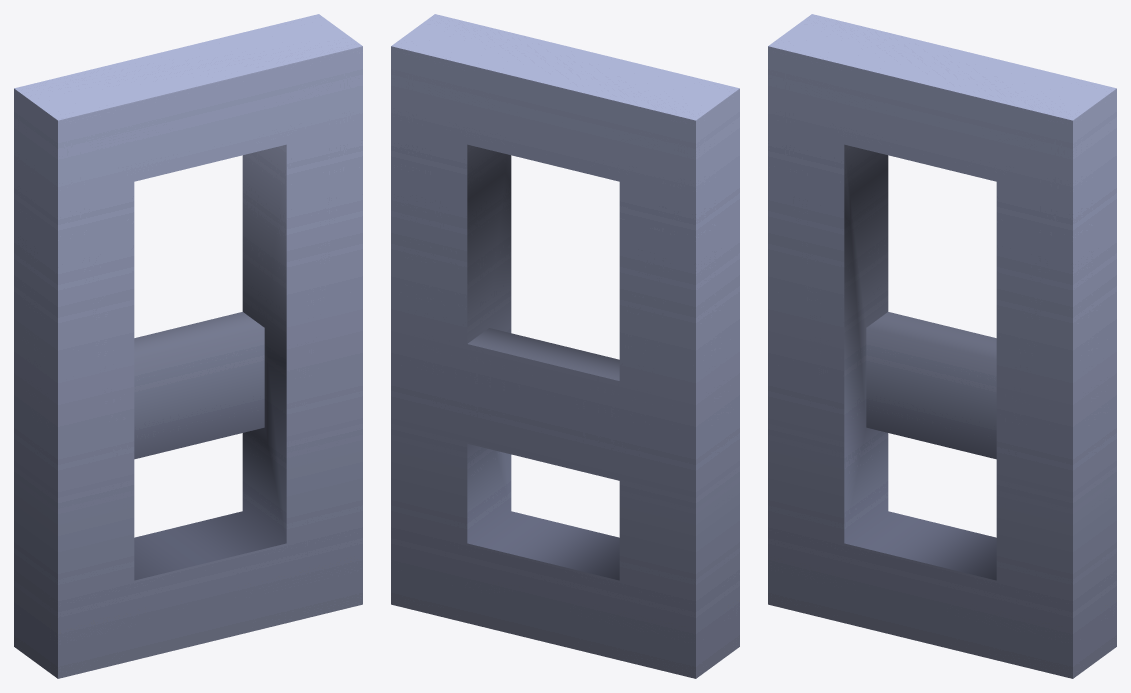
Rendered from door-single.glb.
3 views of the same model, side by side, from view 1: azimuth 30°, elevation 25°; view 2: azimuth 150°, elevation 25°; view 3: azimuth 330°, elevation 25° (orthographic).
Parts seen in each view (by area): view 1: door-single; view 2: door-single; view 3: door-single.
Part boxes in pixels (x1,y1,x2,y2): door-single: (14,14,362,678); door-single: (391,14,739,678); door-single: (768,14,1116,678).
Bounding box in the file's own units: 0.4 × 0.7 × 0.1.
1 material, 1 textured.
